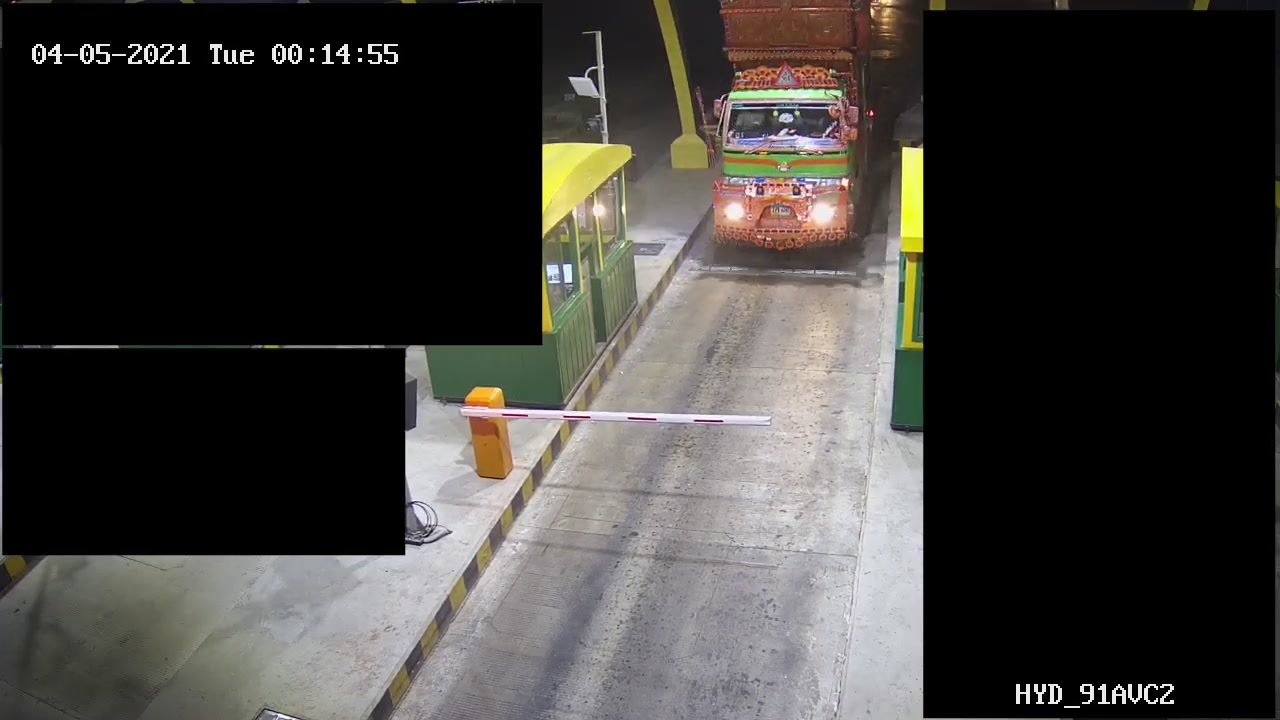F5: (708, 1, 879, 272)
